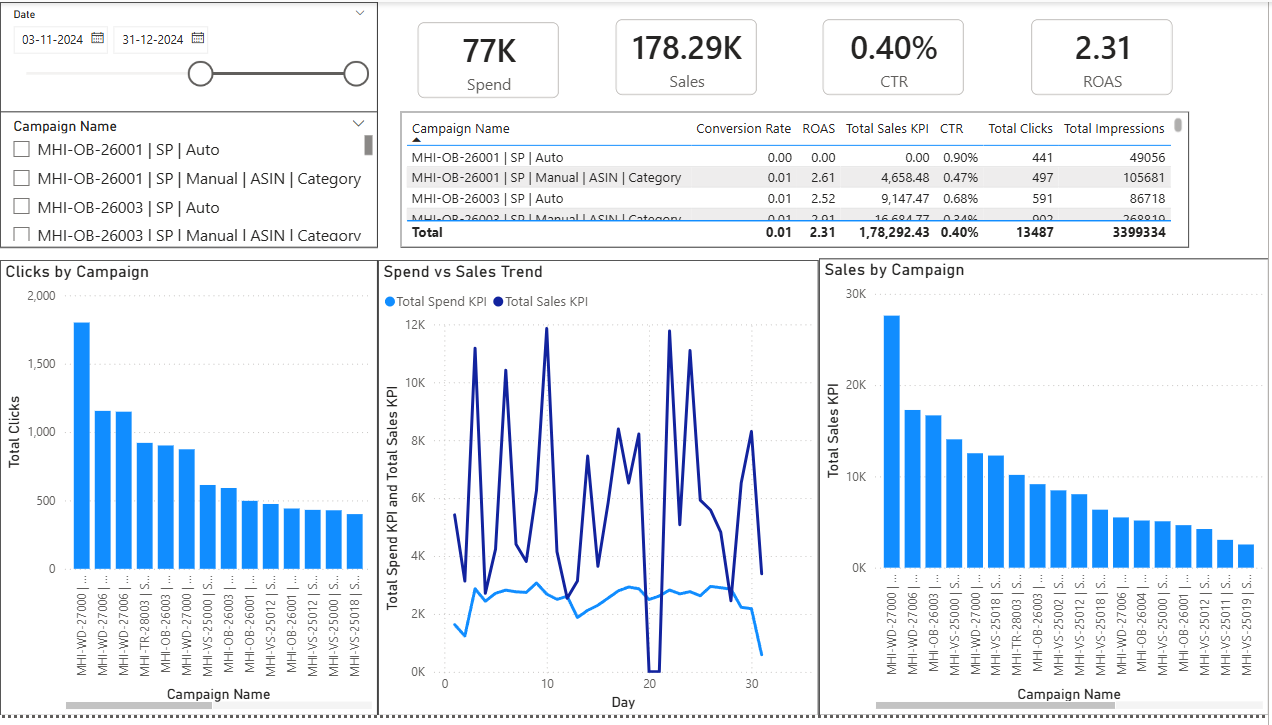

Layout of this report page (visuals, bound fields, positions):
{"tool":"powerbi","page":{"name":"Page 1","canvas":[1280,720],"ordinal":0},"visuals":[{"type":"cardVisual","fields":{"Data":["Sheet1.Total Spend KPI"]},"box":[404.8,2.7,177,111.2],"z":0},{"type":"cardVisual","fields":{"Data":["Sheet1.Total Sales KPI"]},"box":[603.8,0,177,111.2],"z":1},{"type":"cardVisual","fields":{"Data":["Sheet1.CTR"]},"box":[812.4,0,177,111.2],"z":2},{"type":"cardVisual","fields":{"Data":["Sheet1.ROAS"]},"box":[1023.8,0,177,111.2],"z":3},{"type":"clusteredColumnChart","title":"Sales by Campaign","fields":{"Category":["Sheet1.Campaign Name"],"Y":["Sheet1.Total Sales KPI"]},"box":[826.1,259.4,454.2,461.1],"z":4},{"type":"lineChart","title":"Spend vs Sales Trend","fields":{"Y":["Sheet1.Total Spend KPI","Sheet1.Total Sales KPI"],"Category":["Sheet1.Date.Variation.Date Hierarchy.Day"]},"box":[381.5,260.7,444.6,459.7],"z":5},{"type":"clusteredColumnChart","title":"Clicks by Campaign","fields":{"Category":["Sheet1.Campaign Name"],"Y":["Sheet1.Total Clicks"]},"box":[0,260.7,381.5,459.7],"z":6},{"type":"tableEx","fields":{"Values":["Sheet1.Campaign Name","Sheet1.Conversion Rate","Sheet1.ROAS","Sheet1.Total Sales KPI","Sheet1.CTR","Sheet1.Total Clicks","Sheet1.Total Impressions"]},"box":[404.8,111.2,795.9,137.2],"z":7},{"type":"actionButton","box":[0,0,100,40],"z":8},{"type":"slicer","fields":{"Values":["Sheet1.Date"]},"box":[0,0,381.5,111.2],"z":9},{"type":"slicer","fields":{"Values":["Sheet1.Campaign Name"]},"box":[0,111.2,381.5,137.2],"z":10}]}

Visuals, with their boxes in screenshot pixels (x1, y1, x2, y2), scaled from the page's 1280x720 canvas onto the 1272x725 screenshot:
cardVisual - Sheet1.Total Spend KPI: (left=402, top=3, right=578, bottom=115)
cardVisual - Sheet1.Total Sales KPI: (left=600, top=0, right=776, bottom=112)
cardVisual - Sheet1.CTR: (left=807, top=0, right=983, bottom=112)
cardVisual - Sheet1.ROAS: (left=1017, top=0, right=1193, bottom=112)
"Sales by Campaign" clusteredColumnChart: (left=821, top=261, right=1271, bottom=724)
"Spend vs Sales Trend" lineChart: (left=379, top=263, right=821, bottom=724)
"Clicks by Campaign" clusteredColumnChart: (left=0, top=263, right=379, bottom=724)
tableEx - Sheet1.Campaign Name x Sheet1.Conversion Rate: (left=402, top=112, right=1193, bottom=250)
actionButton: (left=0, top=0, right=99, bottom=40)
slicer - Sheet1.Date: (left=0, top=0, right=379, bottom=112)
slicer - Sheet1.Campaign Name: (left=0, top=112, right=379, bottom=250)
